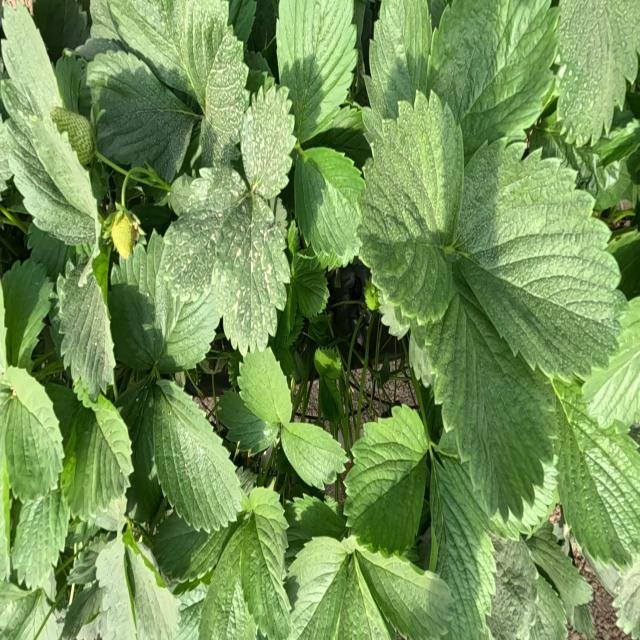Leaves: (458, 142, 625, 381), (426, 286, 555, 515), (152, 162, 287, 363), (359, 91, 461, 319), (430, 0, 556, 158), (553, 382, 639, 569), (138, 385, 241, 532), (108, 0, 229, 113), (3, 112, 97, 247), (50, 380, 133, 532), (91, 52, 194, 168), (430, 453, 495, 636), (345, 408, 427, 551), (557, 1, 639, 143), (276, 1, 357, 141), (355, 542, 454, 639), (0, 367, 63, 501), (55, 261, 115, 398), (296, 147, 363, 267), (488, 539, 565, 639), (367, 0, 431, 120), (241, 492, 291, 639), (583, 296, 639, 427), (1, 3, 61, 121), (201, 28, 249, 165), (108, 246, 160, 371), (200, 523, 255, 639), (288, 537, 350, 639), (241, 85, 295, 197), (11, 486, 69, 590), (529, 130, 619, 197), (526, 528, 591, 615), (127, 535, 179, 639), (1, 259, 51, 364), (153, 515, 234, 579), (281, 422, 346, 488), (507, 454, 558, 535), (238, 348, 291, 424), (96, 535, 135, 638), (217, 390, 277, 453), (33, 0, 89, 63), (0, 583, 58, 639), (285, 495, 345, 540), (292, 252, 328, 316), (596, 118, 640, 167), (613, 556, 639, 634), (55, 51, 86, 113), (613, 234, 640, 300), (409, 332, 433, 388), (319, 375, 343, 427), (228, 0, 256, 43), (380, 302, 410, 338), (314, 348, 341, 379)
Strawberries: (51, 108, 96, 166), (112, 215, 133, 258)
